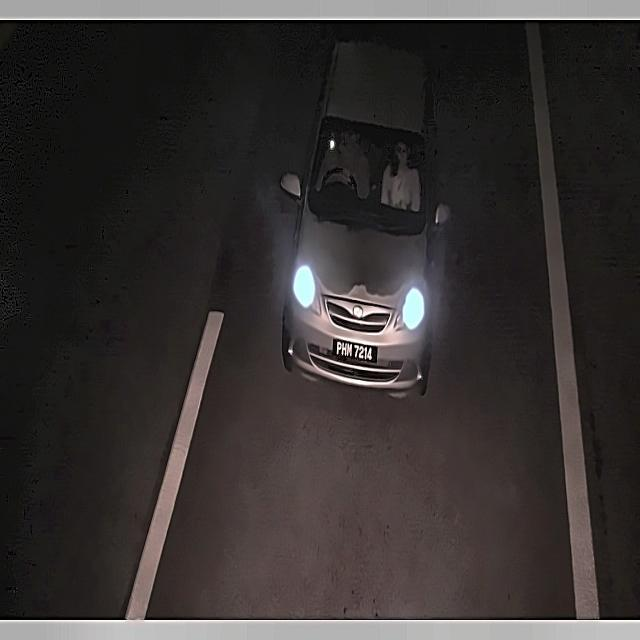car: (328, 330, 379, 369)
